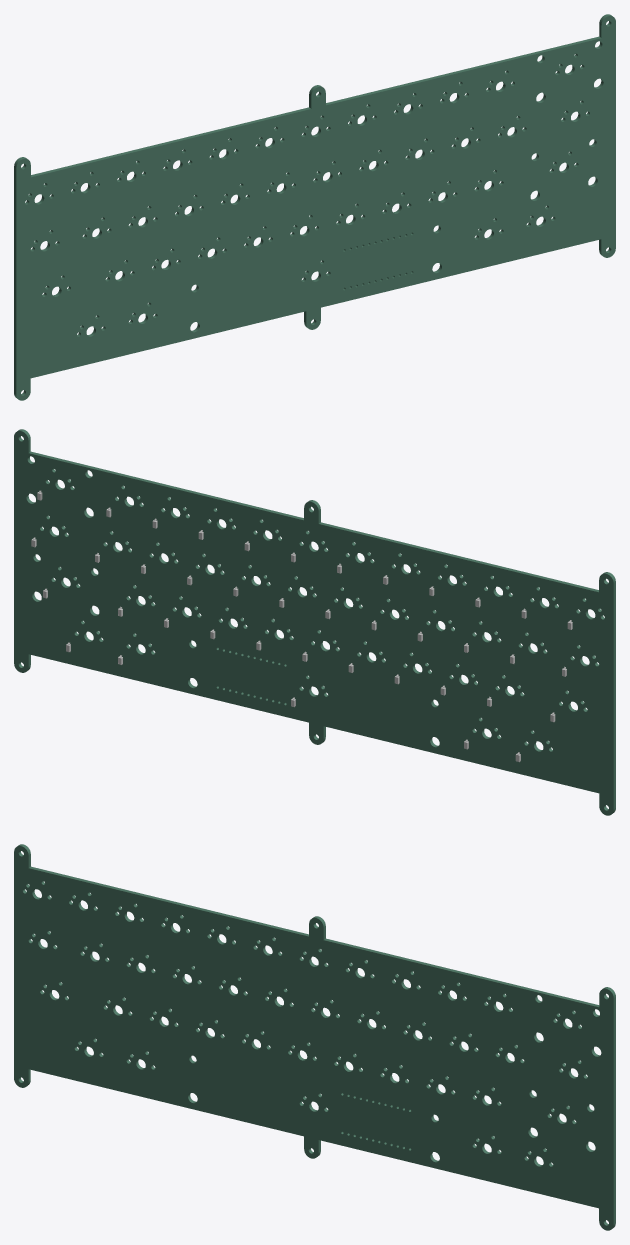
File: 40Keyboard.glb
3 renders of one model, top to bottom at view 1: azimuth 30°, elevation 25°; view 2: azimuth 150°, elevation 25°; view 3: azimuth 330°, elevation 25°, orthographic.
Visible parts, largest first — view 1: empty_42; view 2: empty_42; view 3: empty_42.
Boxes of the visible parts, x1,y1,x2,y2 form: empty_42: (14,14,615,400); empty_42: (14,429,615,815); empty_42: (14,844,615,1230).
Bounding box in the file's own units: 248 × 95.35 × 2.9.
